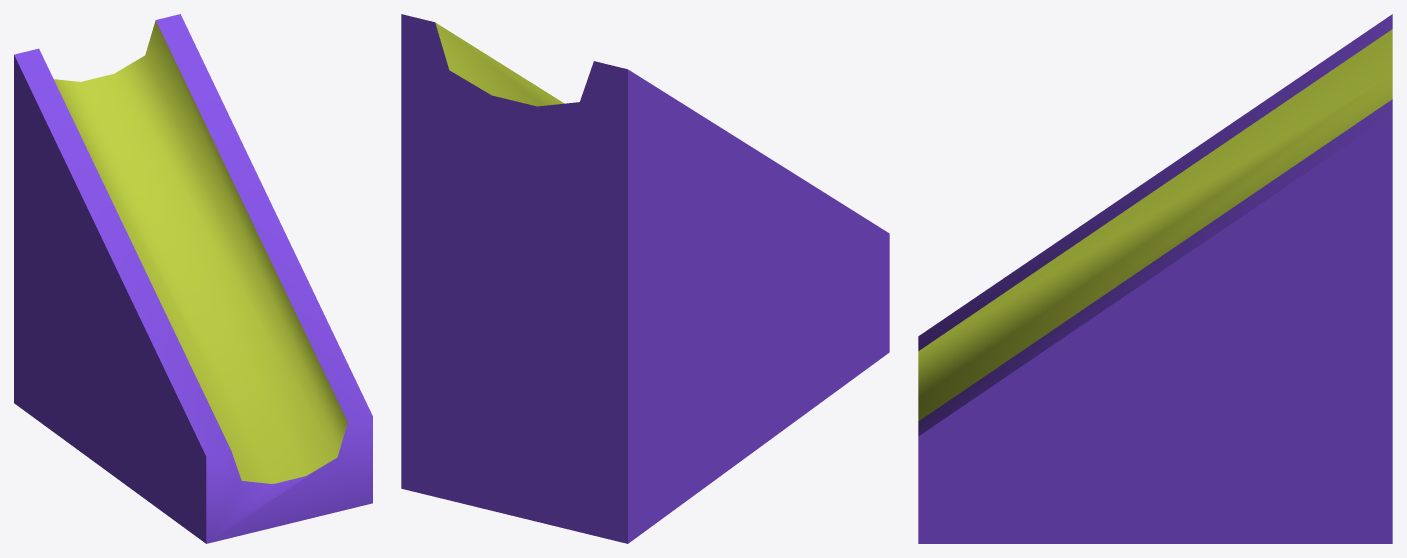
The model's file is slant_solid_long_D-col.dae.
3 views of the same model, side by side, from view 1: azimuth 30°, elevation 25°; view 2: azimuth 150°, elevation 25°; view 3: azimuth 270°, elevation 25° (orthographic). The views are drawn at different scales.
Parts seen in each view (by area): view 1: slant_solid_long_D-col; view 2: slant_solid_long_D-col; view 3: slant_solid_long_D-col.
Boxes of the visible parts, <box> form: slant_solid_long_D-col: <box>14,14,372,543</box>; slant_solid_long_D-col: <box>401,14,889,543</box>; slant_solid_long_D-col: <box>918,14,1392,543</box>.
Size of the model in its own units: 1 by 2 by 2.
